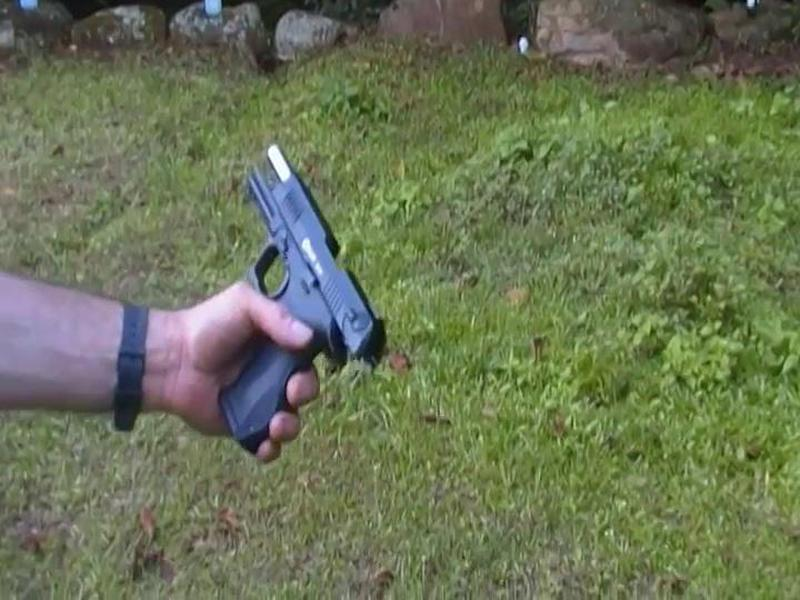Pistola: (184, 136, 414, 462)
